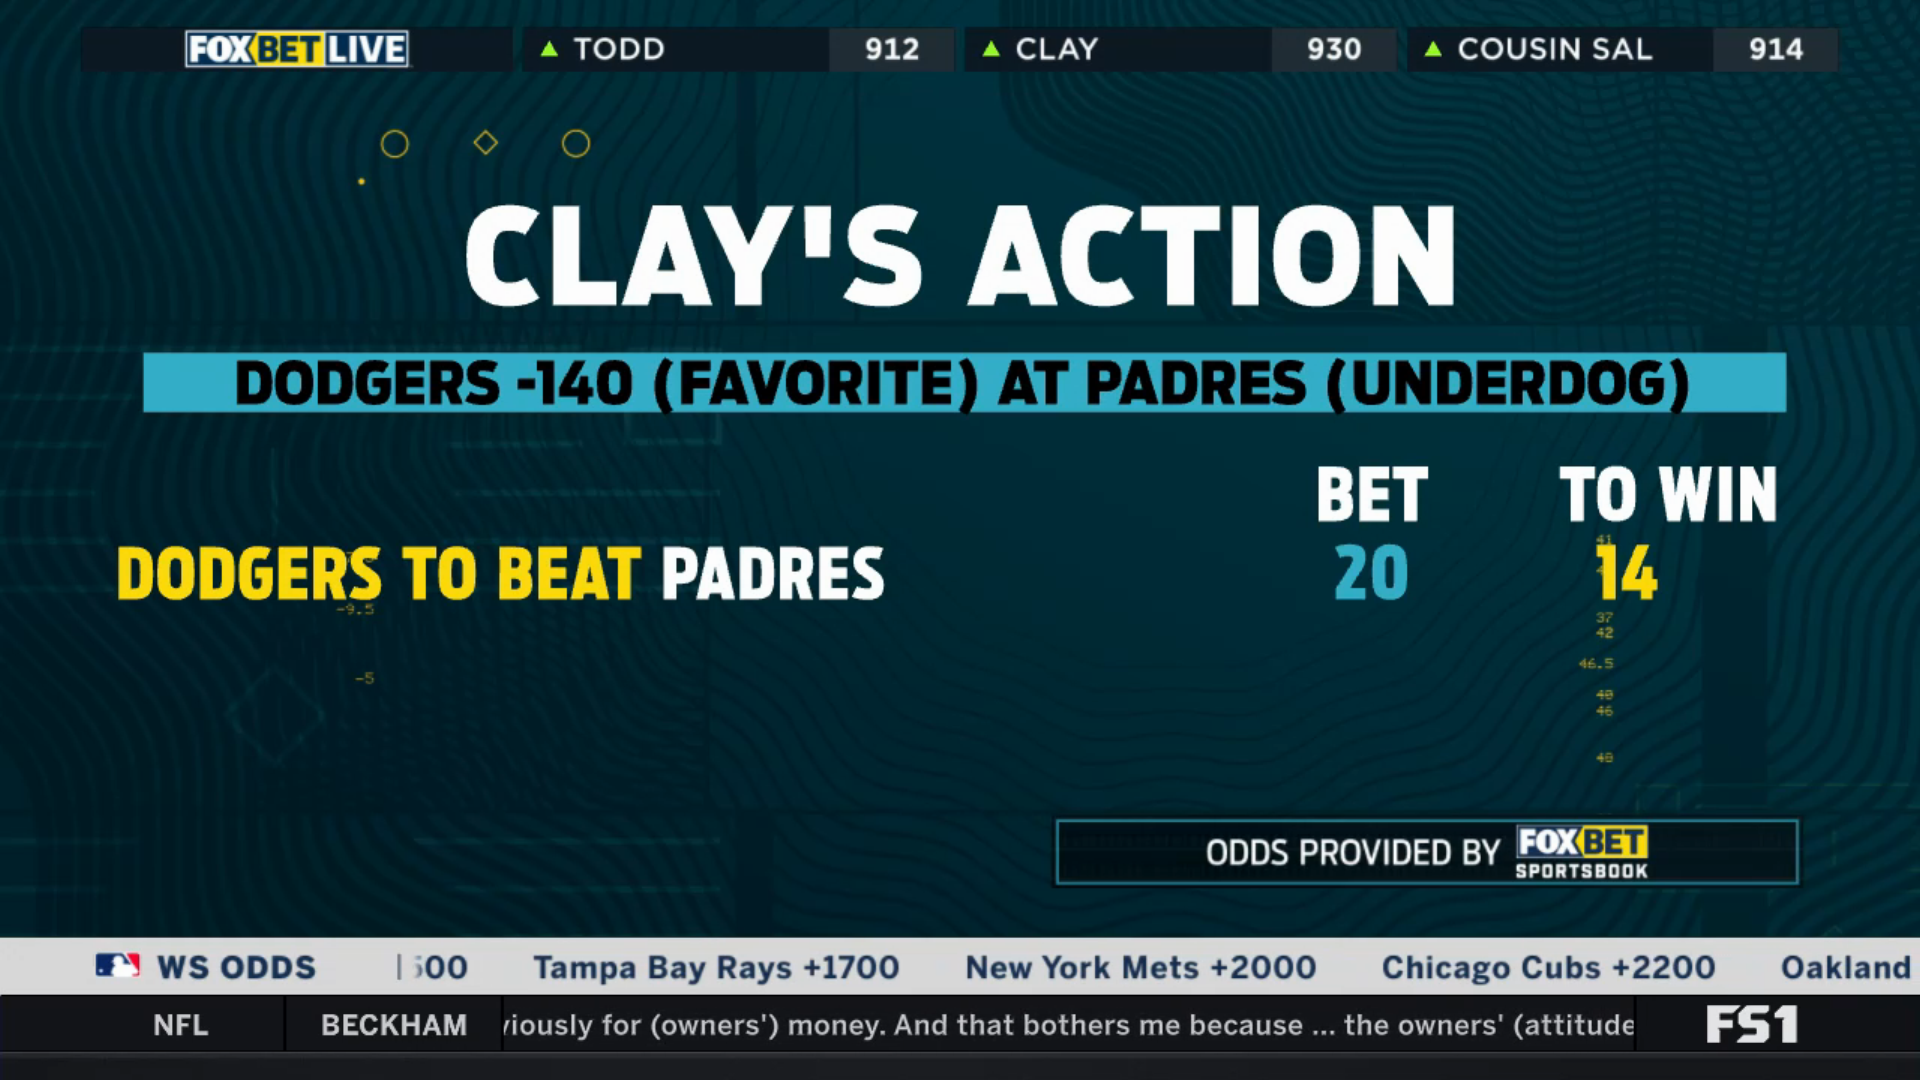Bet: (103, 531, 899, 613)
Bet Amount: (1307, 452, 1437, 615)
Subtitle: (132, 344, 1797, 429)
Title: (454, 193, 1473, 324)
To Win: (1548, 455, 1789, 622)
Top Bar: (71, 17, 1844, 83)
